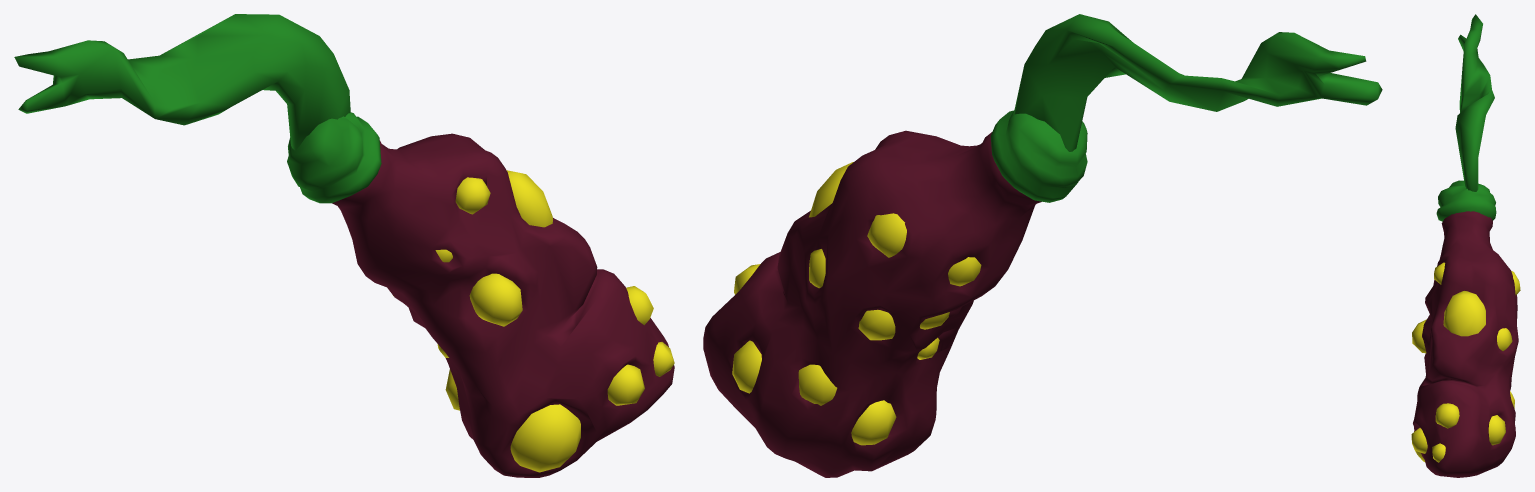
3 views of the same model, side by side, from view 1: azimuth 30°, elevation 25°; view 2: azimuth 150°, elevation 25°; view 3: azimuth 270°, elevation 25° (orthographic). The views are drawn at different scales.
Visible parts, largest first — view 1: Object001, Object003, Group45372, Object002; view 2: Object001, Object003, Group45372, Object002; view 3: Object001, Group45372, Object003, Object002.
Boxes of the visible parts, <box> form: Object001: <box>332,133,674,477</box>; Object003: <box>14,14,350,150</box>; Group45372: <box>435,170,674,472</box>; Object002: <box>287,112,381,203</box>; Object001: <box>703,130,1041,477</box>; Object003: <box>1013,14,1382,151</box>; Group45372: <box>732,162,981,445</box>; Object002: <box>990,110,1087,202</box>; Object001: <box>1413,211,1518,477</box>; Group45372: <box>1411,262,1520,462</box>; Object003: <box>1455,14,1494,191</box>; Object002: <box>1436,180,1496,221</box>.
Size of the model in its own units: 1.19 by 0.9359 by 0.2944.
